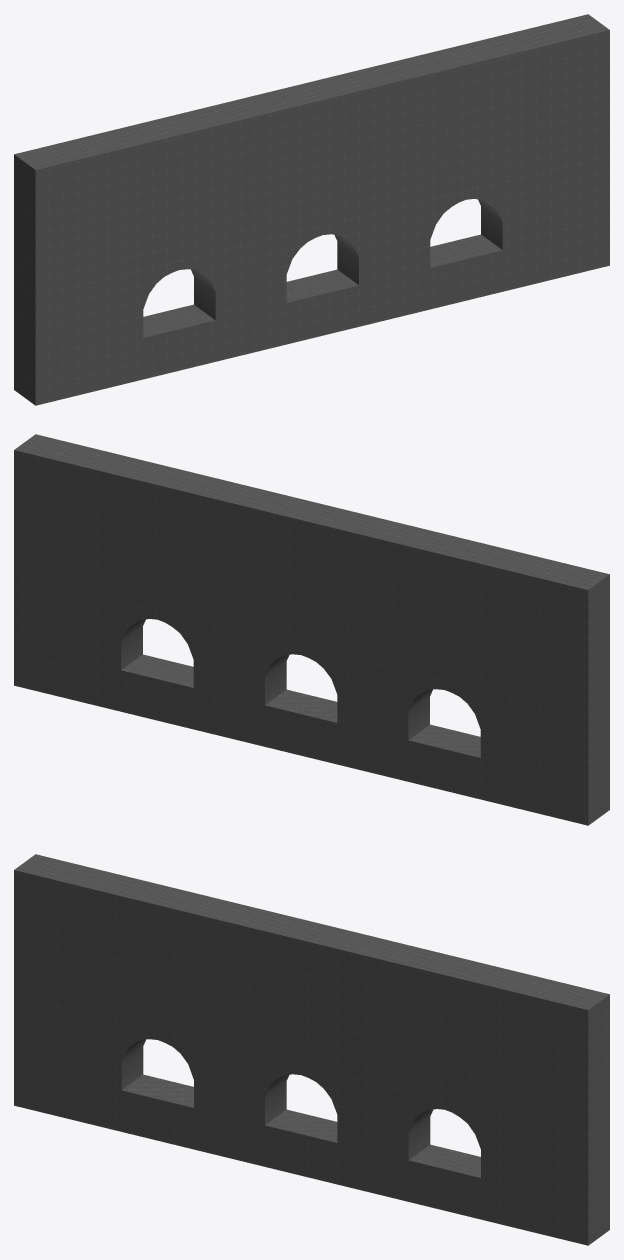
The model's file is wall_b.fbx.
3 views of the same model, one above another, from view 1: azimuth 30°, elevation 25°; view 2: azimuth 150°, elevation 25°; view 3: azimuth 330°, elevation 25° (orthographic).
Visible parts, largest first — view 1: wall_15m_1m; view 2: wall_15m_1m; view 3: wall_15m_1m.
Boxes of the visible parts, box(x1,y1,x2,y2) form: wall_15m_1m: box(14, 14, 609, 405); wall_15m_1m: box(14, 434, 609, 825); wall_15m_1m: box(14, 854, 609, 1245).
Size of the model in its own units: 603 by 236 by 39.37.
